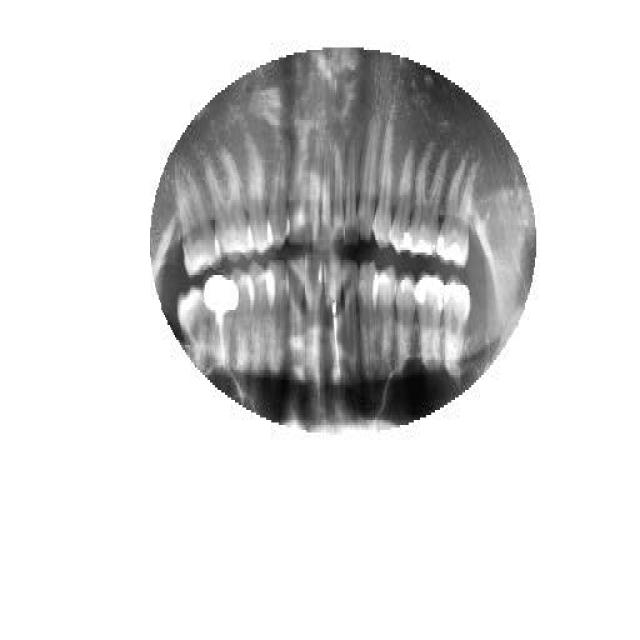Fillings: (436, 145, 479, 267), (408, 132, 447, 262), (415, 267, 445, 375), (442, 278, 470, 380), (390, 145, 415, 257)
Implant: (204, 270, 238, 372)
